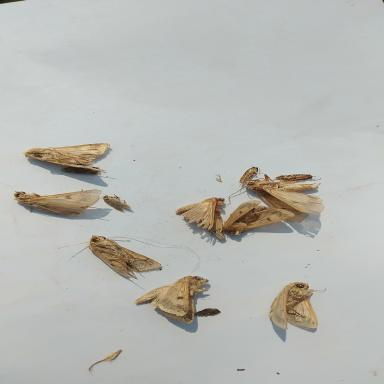abw: (52, 231, 171, 283), (134, 275, 214, 326), (238, 181, 329, 218), (219, 196, 297, 237), (269, 277, 328, 331), (20, 143, 122, 173), (171, 193, 229, 242), (11, 188, 102, 218)
pbw: (102, 193, 134, 214), (58, 166, 107, 177), (236, 166, 263, 185), (272, 172, 318, 183)
